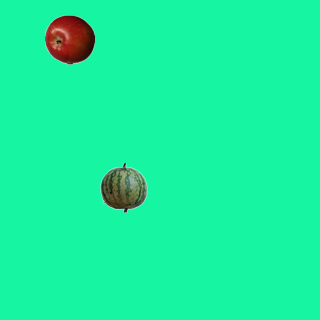Apple Braeburn: (44, 14, 94, 64)
Watermelon: (98, 162, 148, 212)
